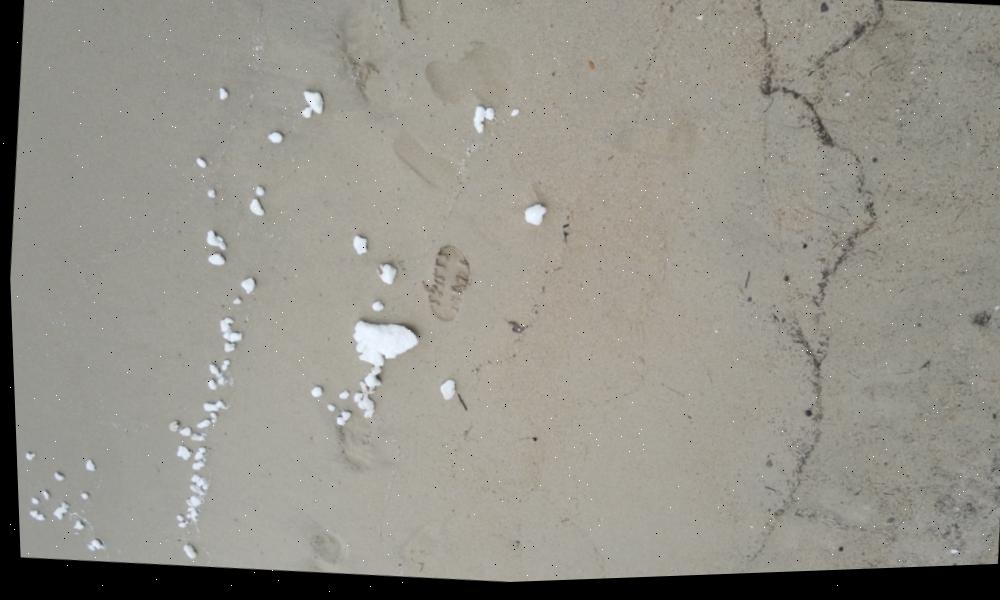styrofoam: (350, 322, 415, 372), (523, 206, 548, 232), (202, 232, 227, 256), (474, 111, 494, 137), (434, 381, 455, 405), (303, 92, 322, 118), (377, 264, 395, 290), (219, 324, 241, 344), (180, 429, 199, 447), (238, 277, 255, 297), (360, 376, 380, 393), (356, 400, 373, 419), (247, 200, 263, 219), (199, 401, 221, 414), (351, 240, 365, 260), (205, 364, 219, 384), (206, 257, 225, 271), (185, 486, 202, 501), (50, 504, 64, 521), (267, 134, 282, 148), (69, 521, 83, 536), (27, 511, 41, 526), (193, 157, 205, 173), (180, 546, 194, 559), (83, 541, 98, 553), (335, 413, 345, 431), (189, 460, 201, 475), (216, 360, 227, 376), (162, 424, 178, 435), (369, 303, 382, 316), (252, 186, 264, 200), (81, 461, 92, 476), (332, 394, 348, 404), (176, 446, 186, 462), (219, 89, 228, 106), (309, 389, 319, 404), (76, 489, 86, 503), (192, 421, 207, 430), (36, 487, 46, 500), (206, 193, 216, 202), (50, 473, 60, 482), (21, 452, 30, 460)
